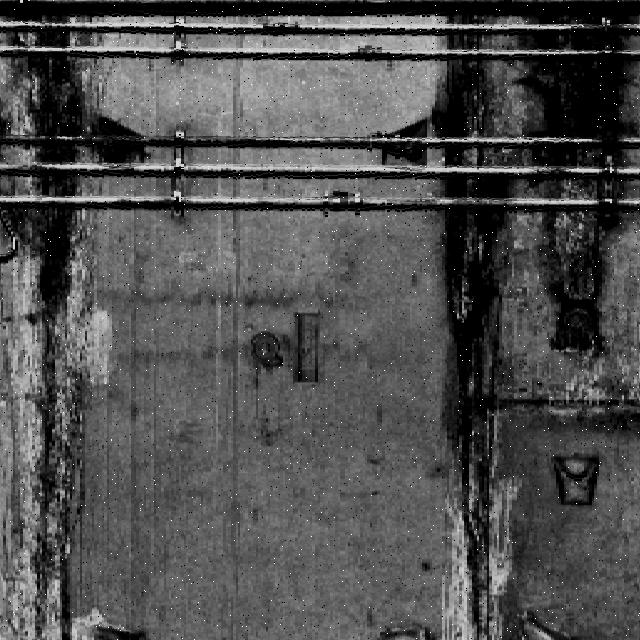leakage: (0, 8, 113, 640), (422, 7, 521, 640), (539, 1, 639, 371)
